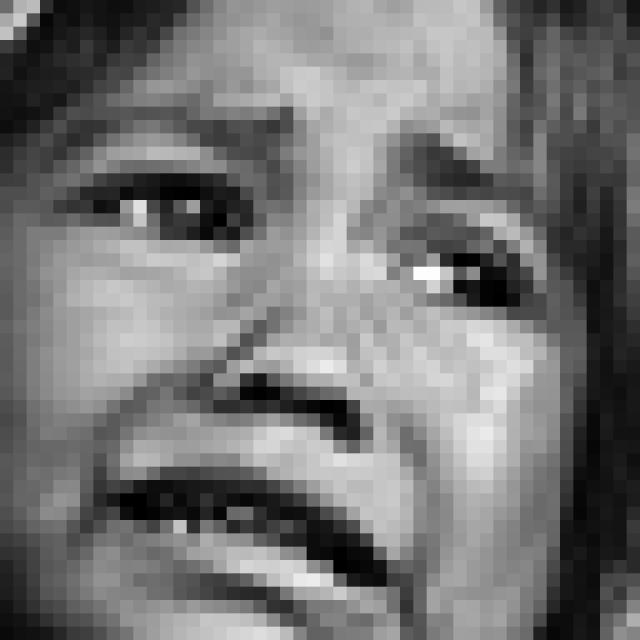sad: (34, 83, 564, 640)
